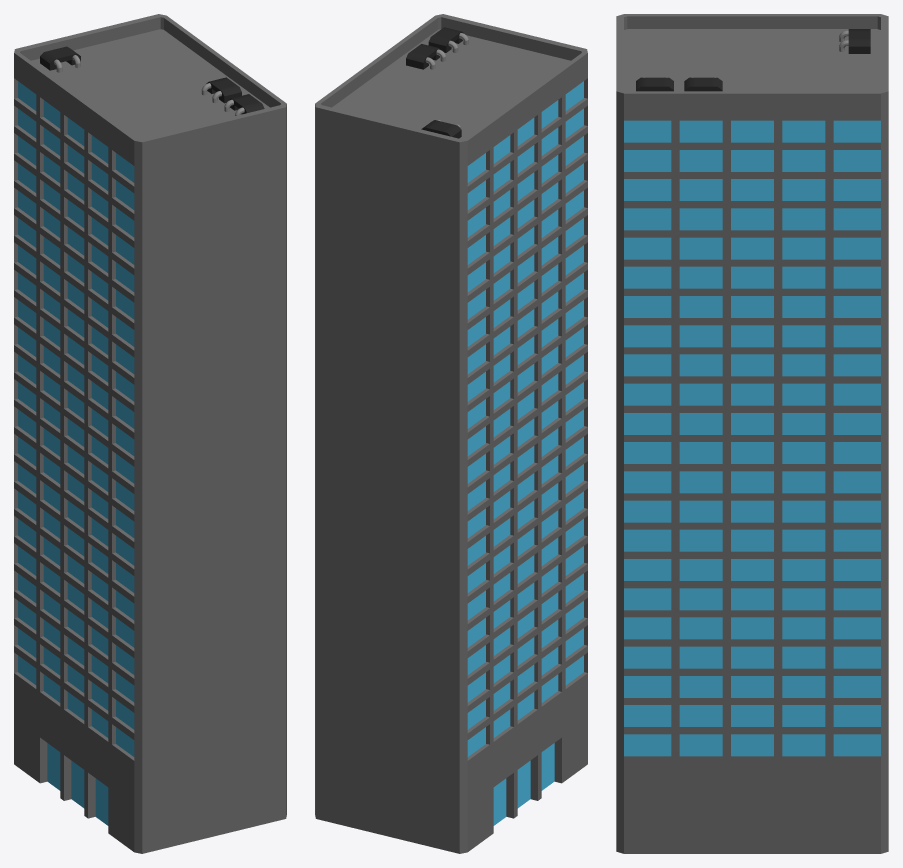
The model's file is Skyscraper.fbx.
3 views of the same model, side by side, from view 1: azimuth 30°, elevation 25°; view 2: azimuth 150°, elevation 25°; view 3: azimuth 270°, elevation 25° (orthographic). The views are drawn at different scales.
Visible parts, largest first — view 1: Skyscraper_04; view 2: Skyscraper_04; view 3: Skyscraper_04.
Boxes of the visible parts, <box> form: Skyscraper_04: <box>14,14,286,853</box>; Skyscraper_04: <box>315,14,587,853</box>; Skyscraper_04: <box>616,14,888,853</box>.
Bounding box in the file's own units: 21.22 × 94.52 × 30.68.
